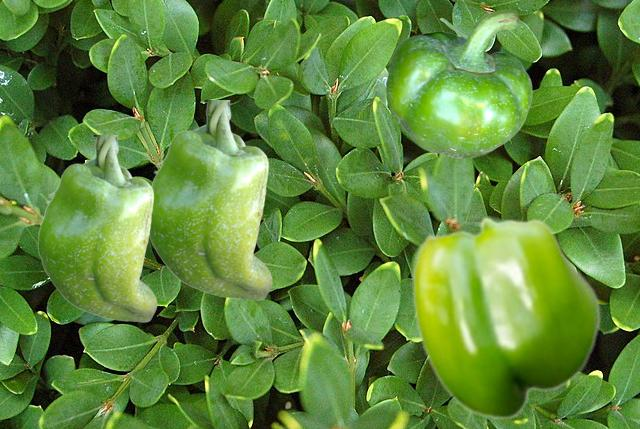bell_pepper: (412, 216, 600, 419), (150, 100, 271, 299), (37, 135, 156, 321), (386, 9, 531, 157)
